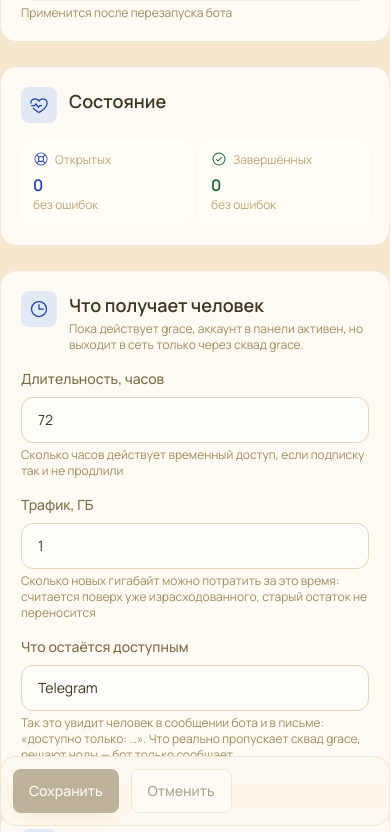
раздел grace-доступа › ошибку валидации 422 показывает текстом, а не роняет экран
This screenshot has width=390, height=832.
(page scrolled)
Replace the text in the number field labelled "Длительность, часов" with "99999" at (195, 420), box [21,397,369,443]
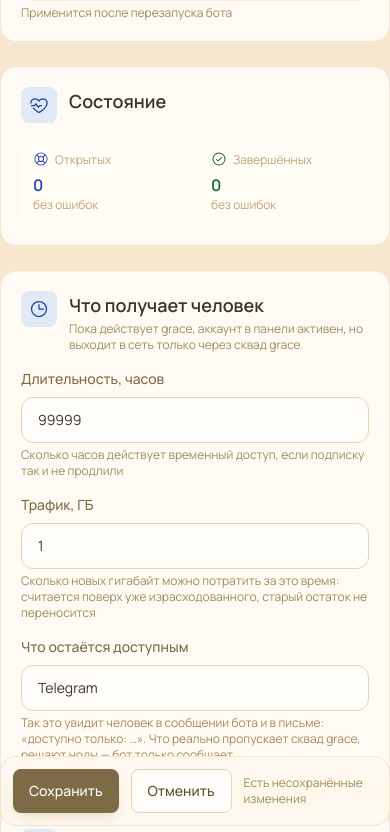
Click the button "Сохранить" at (66, 791), box [13,769,119,813]
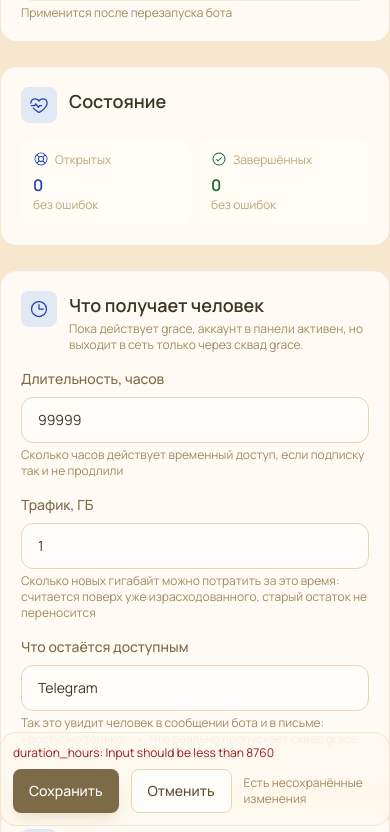
Result: the text "duration_hours: Input should be less than 8760" is shown at [13,744,274,761]
